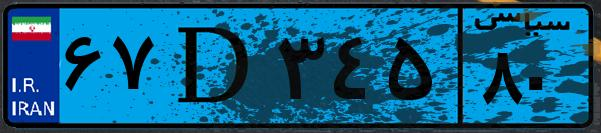0: (525, 38, 570, 115)
3: (270, 28, 330, 110)
4: (330, 28, 385, 110)
5: (385, 28, 445, 110)
6: (57, 26, 110, 100)
7: (110, 28, 158, 98)
8: (475, 38, 525, 113)
D: (158, 12, 270, 120)
